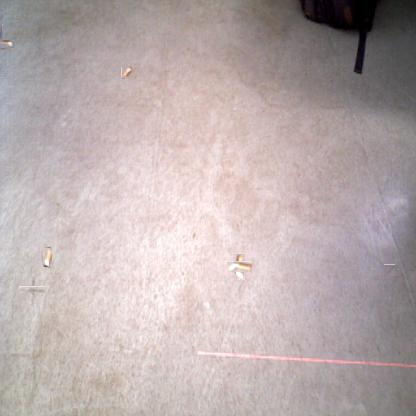dirty: (230, 258, 249, 276), (42, 247, 52, 267), (0, 40, 14, 48), (122, 67, 132, 78)
mark: (24, 281, 41, 299), (384, 264, 395, 276), (191, 230, 196, 240), (1, 24, 3, 41)
